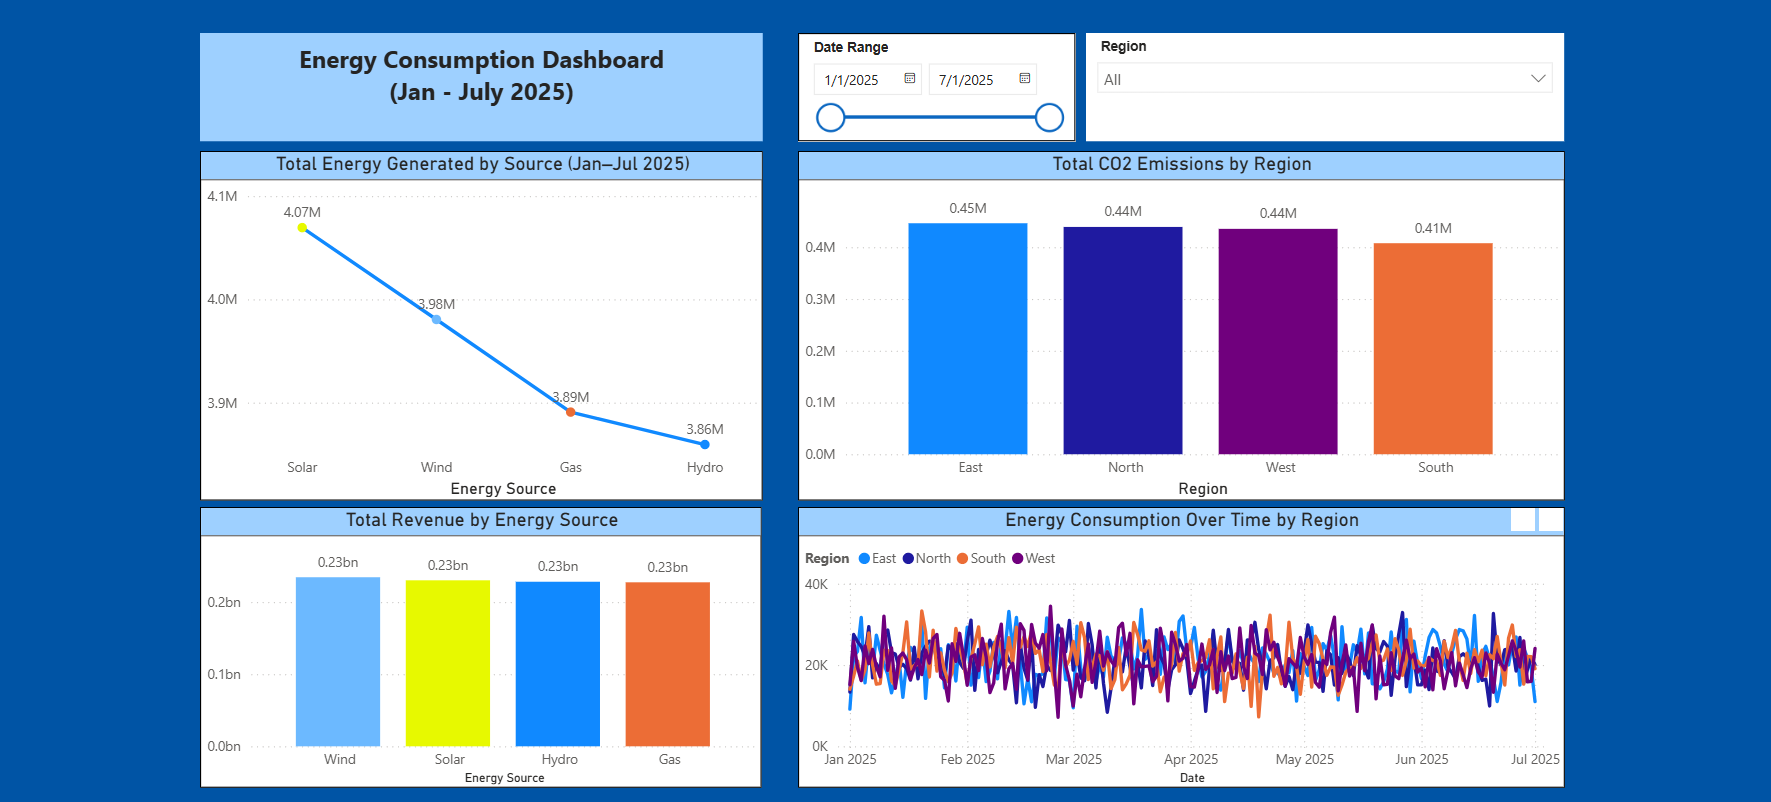

The page's visual inventory and layout, read from the dashboard file:
{"tool":"powerbi","page":{"name":"Page 1","canvas":[1280,720],"ordinal":0},"visuals":[{"type":"lineChart","title":"Total Energy Generated by Source (Jan–Jul 2025)","fields":{"Category":["EnergyData.Energy Source"],"Y":["Sum(EnergyData.Energy Generated (MWh))"]},"box":[37.7,137,499.3,309.9],"z":0},{"type":"lineChart","title":" Energy Consumption Over Time by Region","fields":{"Category":["EnergyData.Date"],"Series":["EnergyData.Region"],"Y":["Sum(EnergyData.Energy Consumed (MWh))"]},"box":[568.4,453.3,679.5,249.2],"z":1000},{"type":"clusteredColumnChart","title":"Total Revenue by Energy Source","fields":{"Y":["Sum(EnergyData.Revenue ($))"],"Category":["EnergyData.Energy Source"]},"box":[37.8,453.3,498.4,249.2],"z":2000},{"type":"clusteredColumnChart","title":"Total CO2 Emissions by Region","fields":{"Category":["EnergyData.Region"],"Y":["Sum(EnergyData.CO2 Emissions (tons))"]},"box":[568.4,137,679.5,309.9],"z":3000},{"type":"slicer","fields":{"Values":["EnergyData.Region"]},"box":[824,33.1,423.9,95.6],"z":4000},{"type":"slicer","fields":{"Values":["EnergyData.Date"]},"box":[568.4,33.1,245.5,95.6],"z":5000},{"type":"textbox","box":[37.8,33.1,499.3,95.6],"z":6000}]}

Visuals, with their boxes in screenshot pixels (x1, y1, x2, y2):
"Total Energy Generated by Source (Jan–Jul 2025)" lineChart: 191/142/760/495
" Energy Consumption Over Time by Region" lineChart: 795/503/1570/787
"Total Revenue by Energy Source" clusteredColumnChart: 191/503/759/787
"Total CO2 Emissions by Region" clusteredColumnChart: 795/142/1570/495
slicer - EnergyData.Region: 1087/24/1570/133
slicer - EnergyData.Date: 795/24/1075/133
textbox: 191/24/760/133
